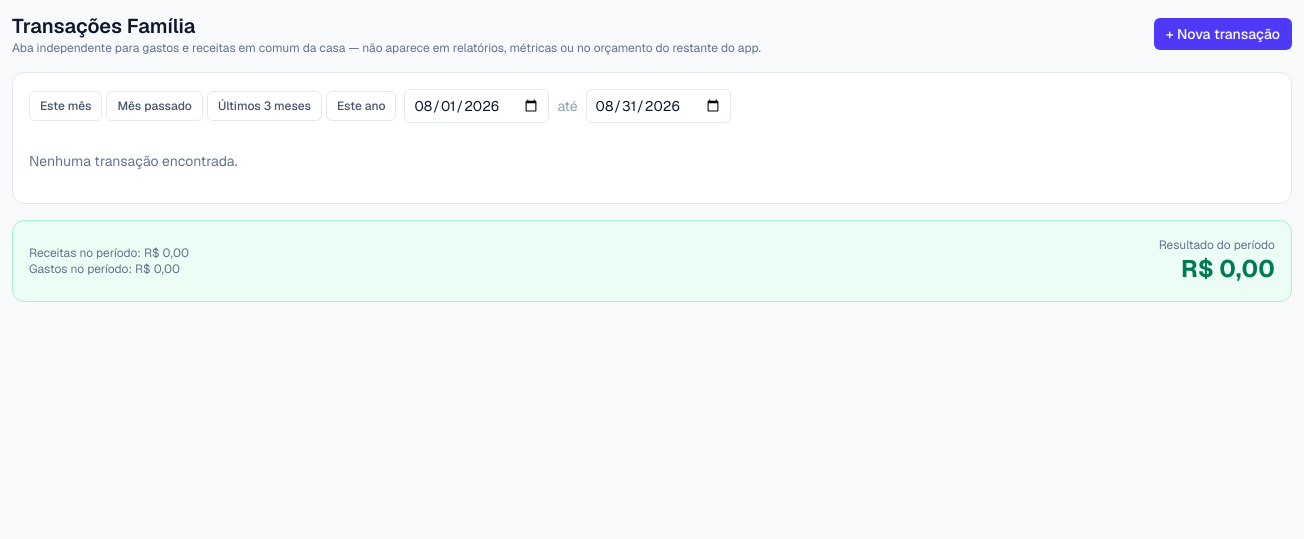
Scenario: página /transacoes-familia — formulário › avisa e não envia quando o valor não é um número
Expected: the text "Nenhuma transação encontrada." is shown, [29,152,238,170]
Click the button "+ Nova transação" at [1223, 34], box [1154,18,1292,50]
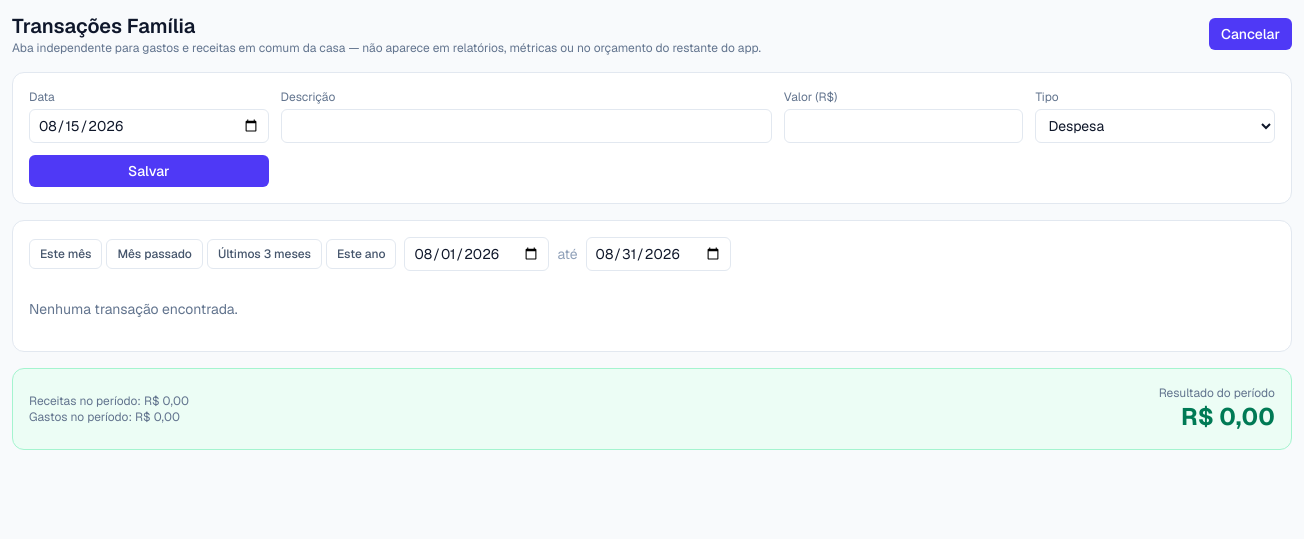
Type "X" into the field below "Descrição" at [526, 126], box [281,109,772,143]
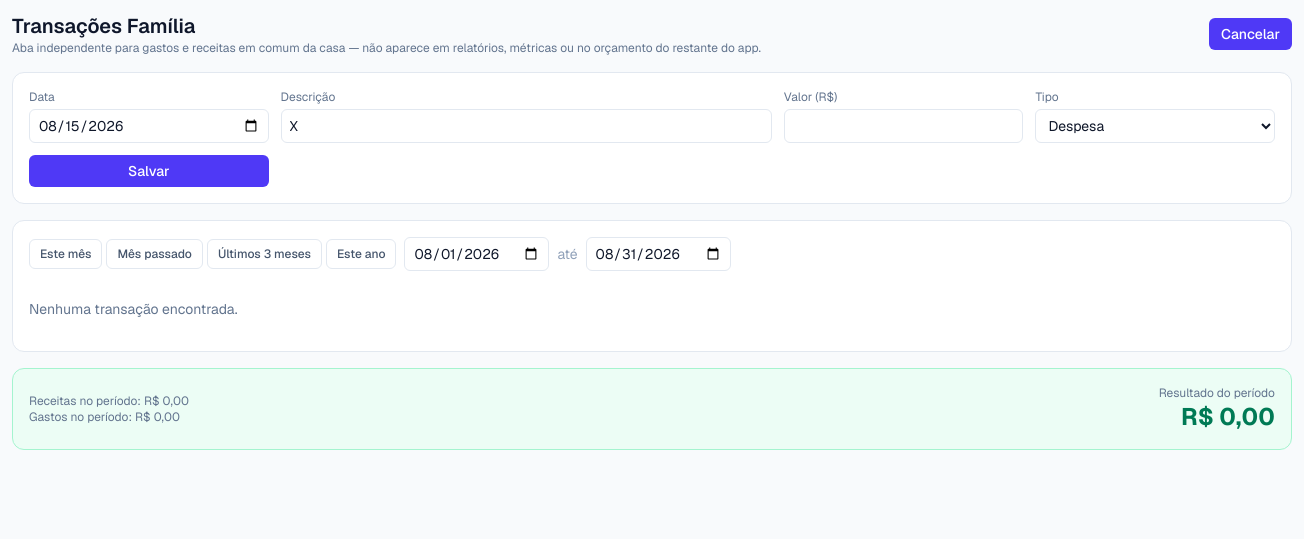
Type "abc" into the field below "Valor (R$)" at [904, 126], box [784,109,1023,143]
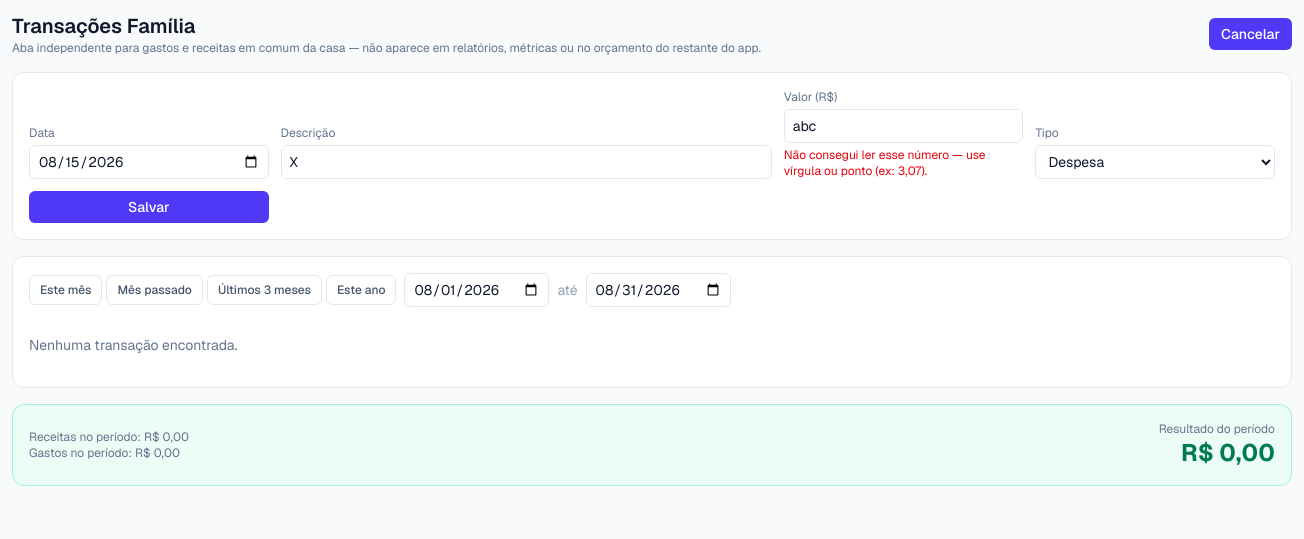
Submit the form, box [12,72,1292,240]
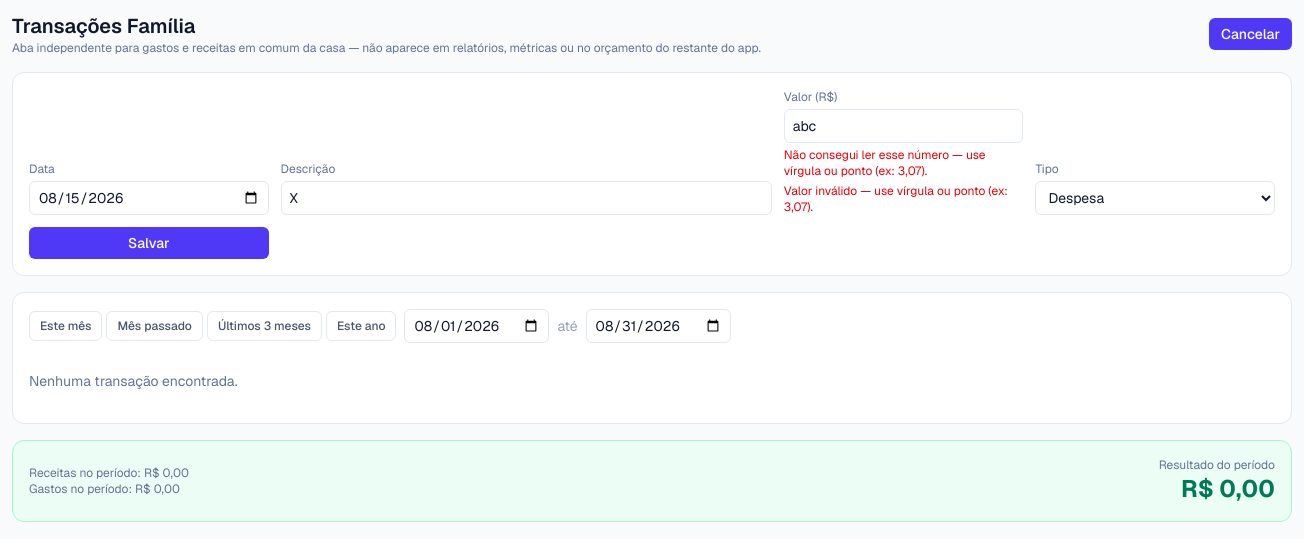
Now the text "Valor inválido — use vírgula ou ponto (ex: 3,07)." is shown, box [784,183,1023,215]
